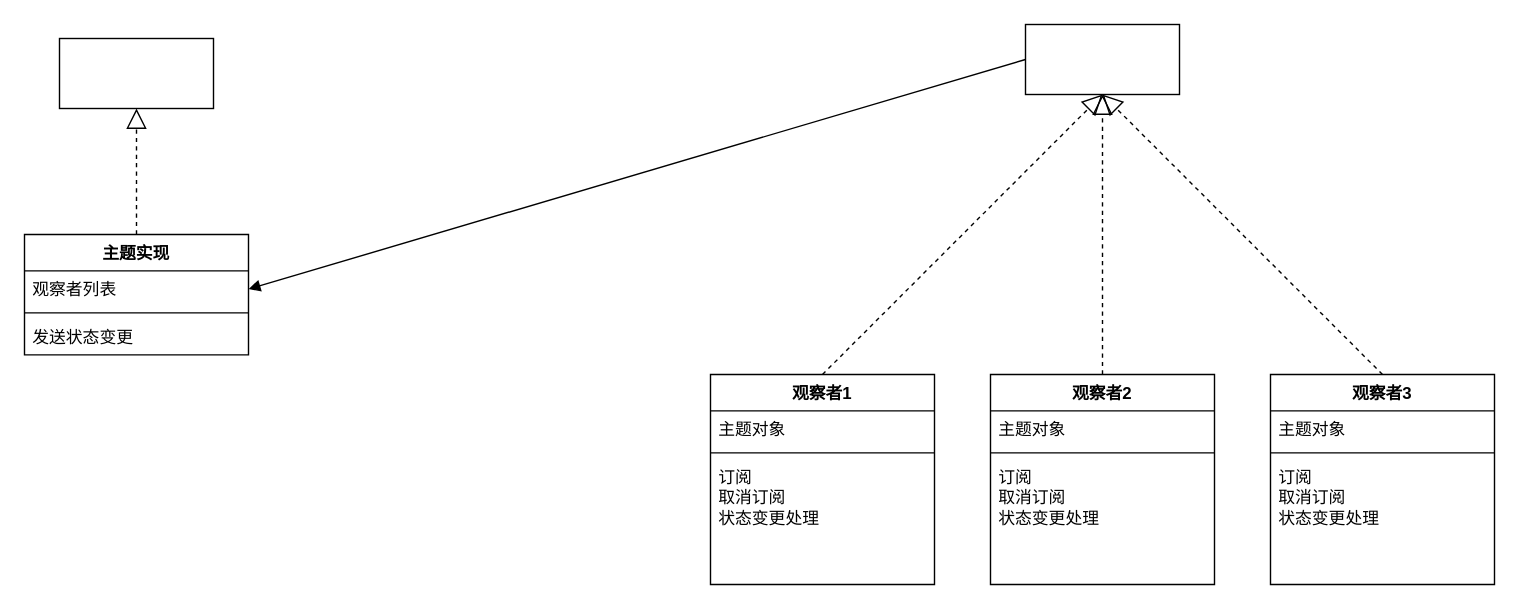
The diagram is 1519 pixels wide and 613 high, and some of its shapes have lost their labels. Each missing label, with the centre of its shape:
"«interface» 主题" belongs at point (136, 72).
"«interface» 观察者" belongs at point (1102, 58).
